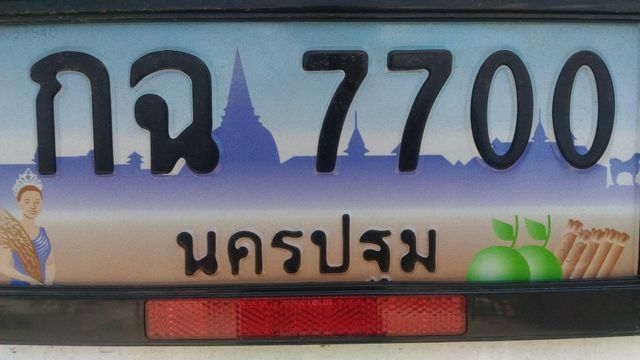Non-Bangkok: (169, 212, 448, 290)
